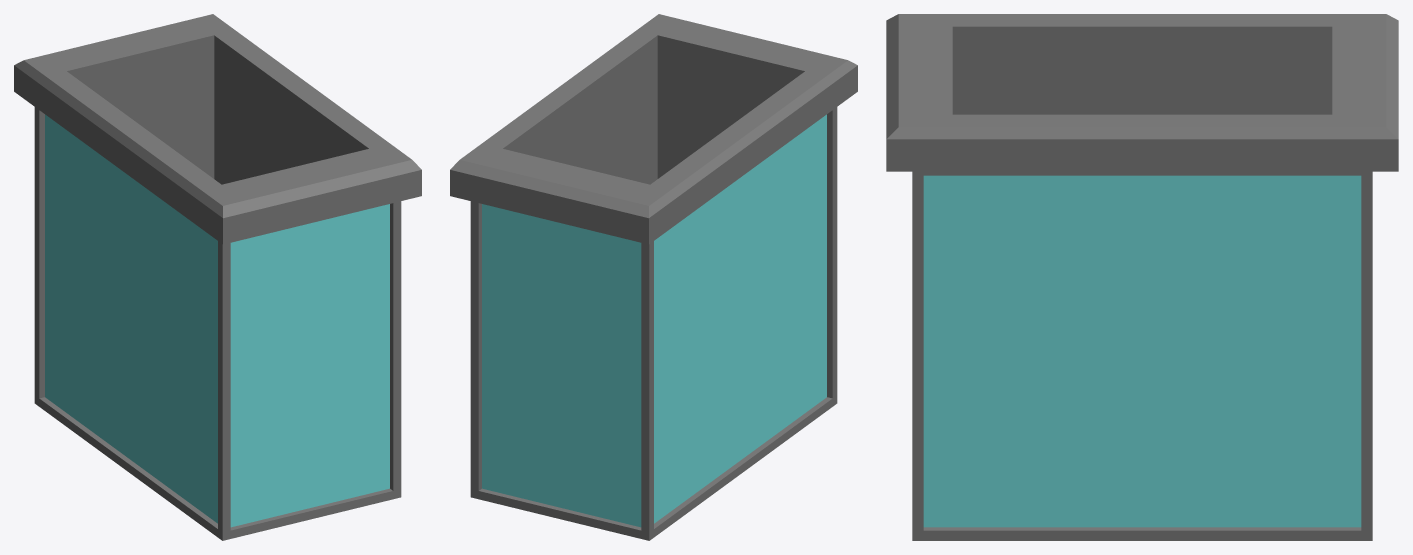
File: flue.fbx
3 renders of one model, left to right at view 1: azimuth 30°, elevation 25°; view 2: azimuth 150°, elevation 25°; view 3: azimuth 270°, elevation 25°, orthographic. The views are drawn at different scales.
Visible parts, largest first — view 1: flue; view 2: flue; view 3: flue.
Boxes of the visible parts, left/top/right/bottom form: flue: left=14, top=14, right=421, bottom=540; flue: left=450, top=14, right=857, bottom=540; flue: left=886, top=14, right=1398, bottom=540.
Bounding box in the file's own units: 122 × 200 × 223.
